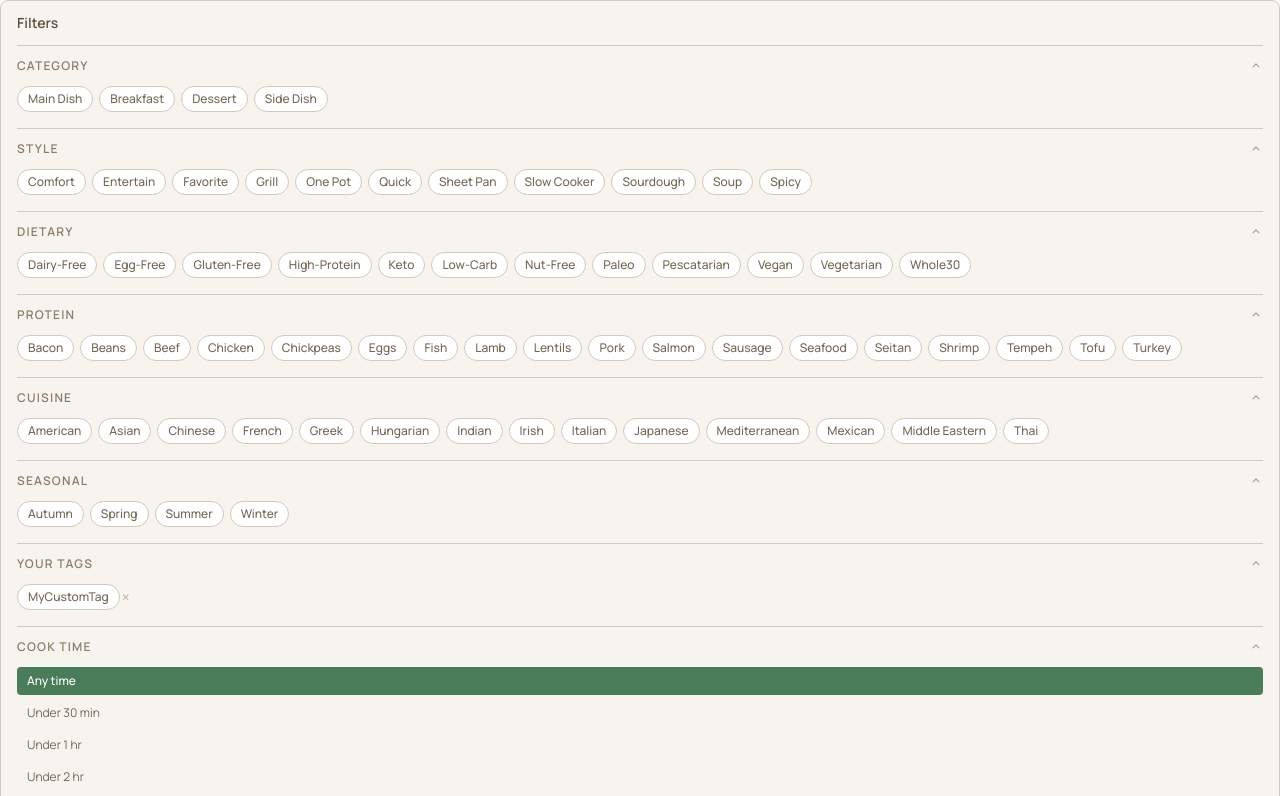
Test: FilterSidebar - "Your tags" delete flow › clicking × again on the same tag hides the confirmation
Click the button named "Delete tag MyCustomTag" at (126, 597), box [122,589,130,605]
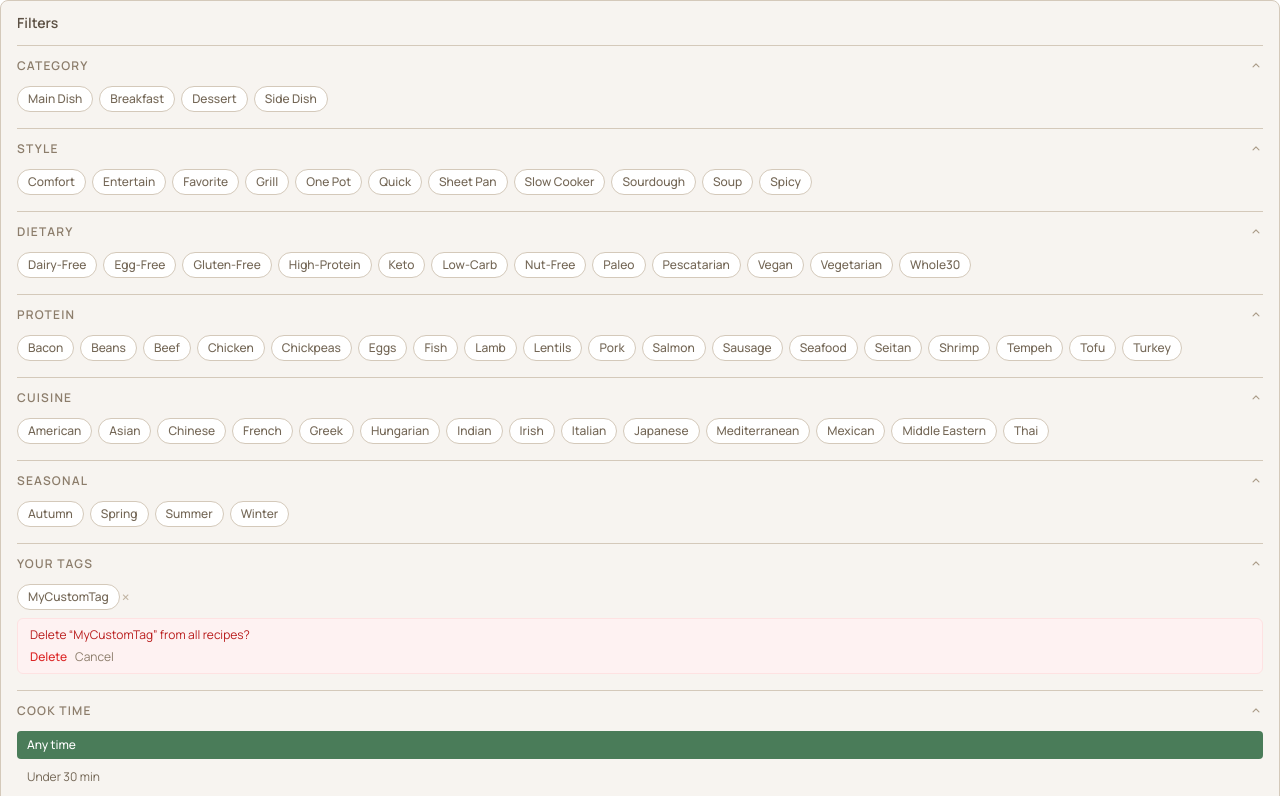
Check: the text "Delete “MyCustomTag” from all recipes?" is shown, box [30,626,250,643]
Click the button named "Delete tag MyCustomTag" at (126, 597), box [122,589,130,605]
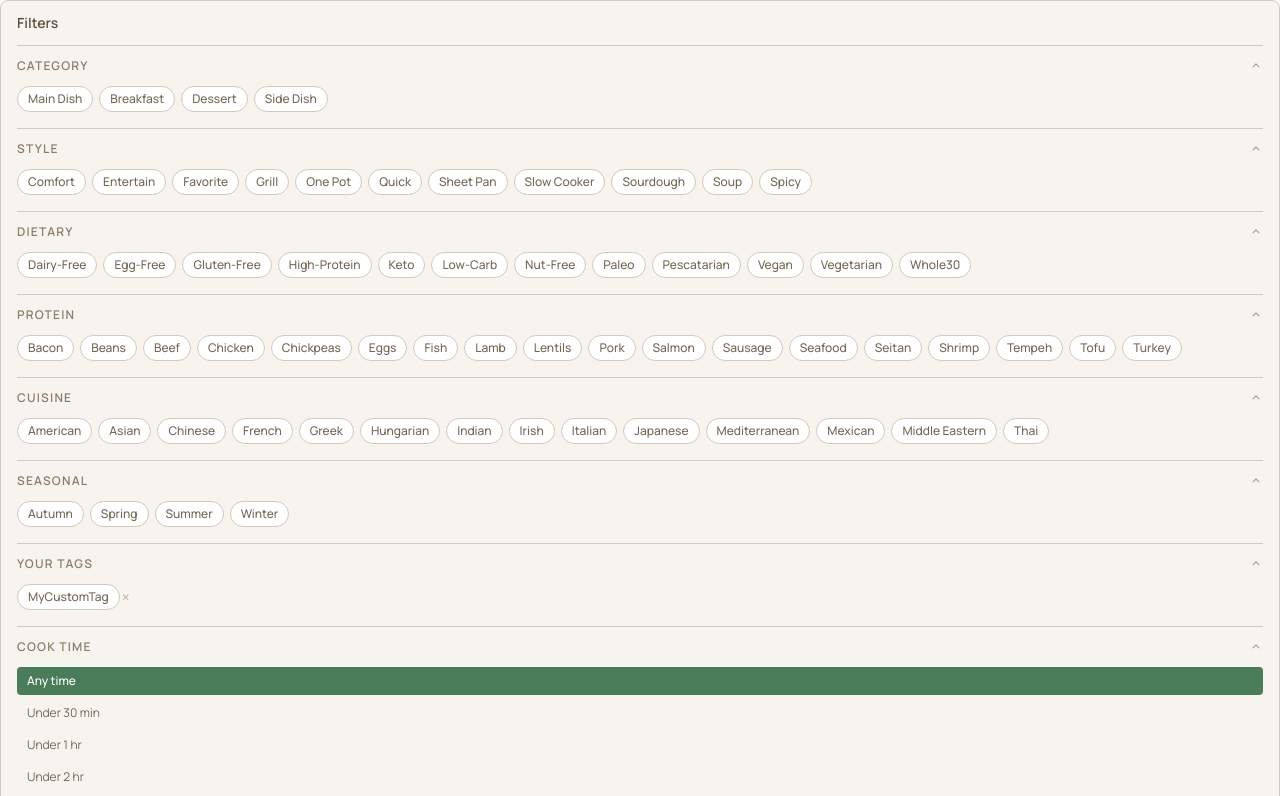
Check: the text "Delete “MyCustomTag” from all recipes?" is gone
